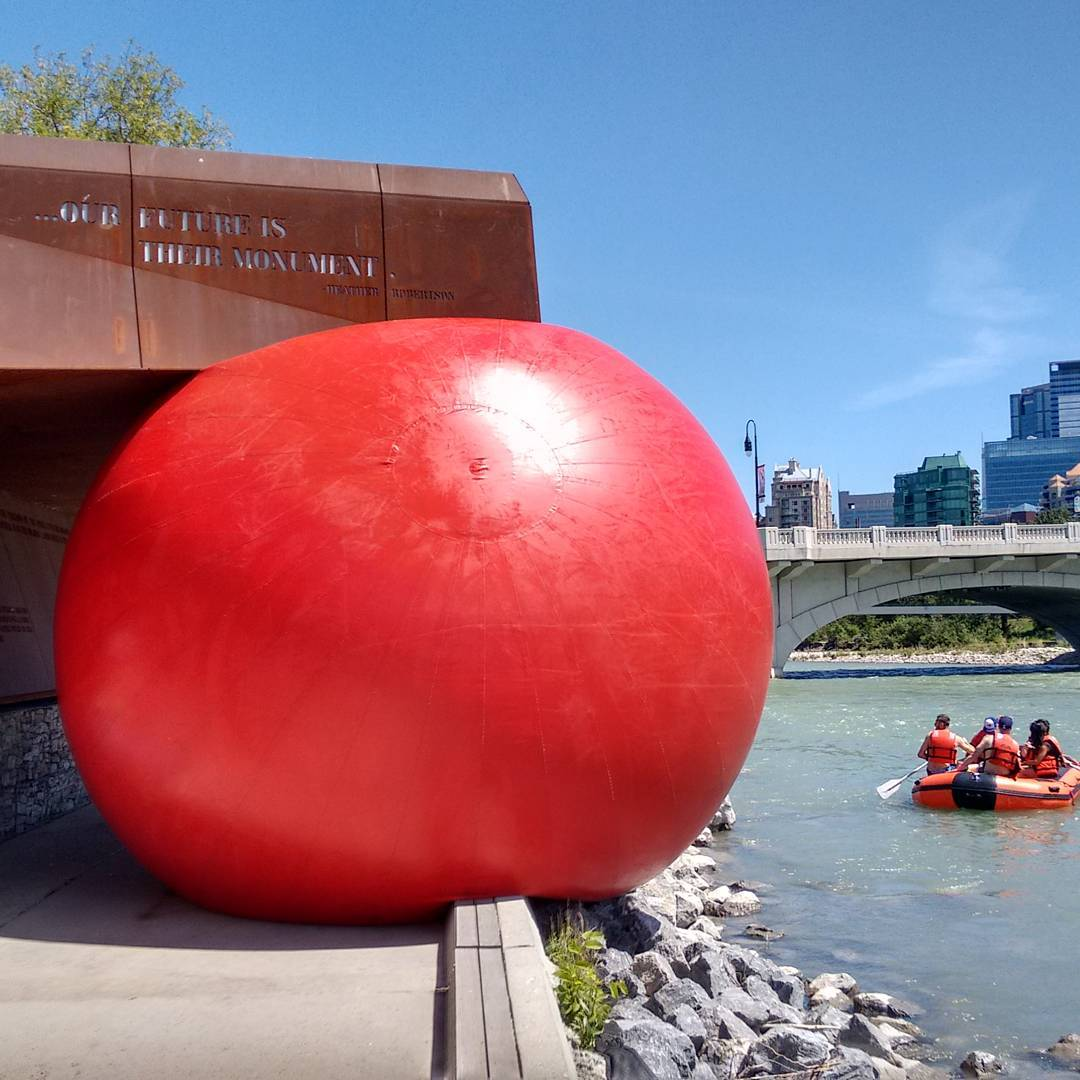red ball: (50, 314, 777, 927)
